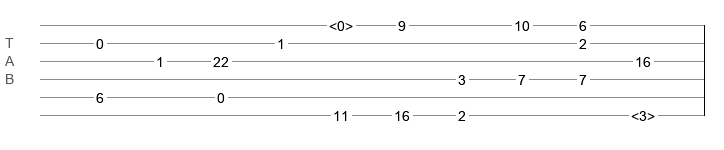0: (96, 36, 104, 46), (217, 90, 225, 100)
1: (156, 54, 164, 64), (277, 36, 285, 46)
10: (514, 18, 530, 28)
11: (333, 108, 349, 118)
16: (394, 108, 410, 118), (635, 54, 651, 64)
2: (458, 108, 466, 118), (579, 36, 587, 46)
22: (213, 54, 229, 64)
3: (458, 72, 466, 82)
6: (96, 90, 104, 100), (579, 18, 587, 28)
7: (518, 72, 526, 82), (579, 72, 587, 82)
9: (398, 18, 406, 28)
harmonic: (329, 18, 353, 28), (631, 108, 655, 118)
